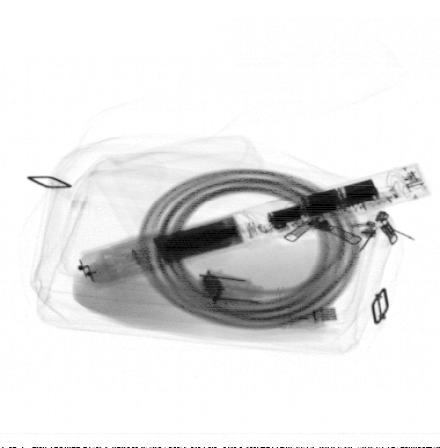Baton: (76, 161, 431, 291)
